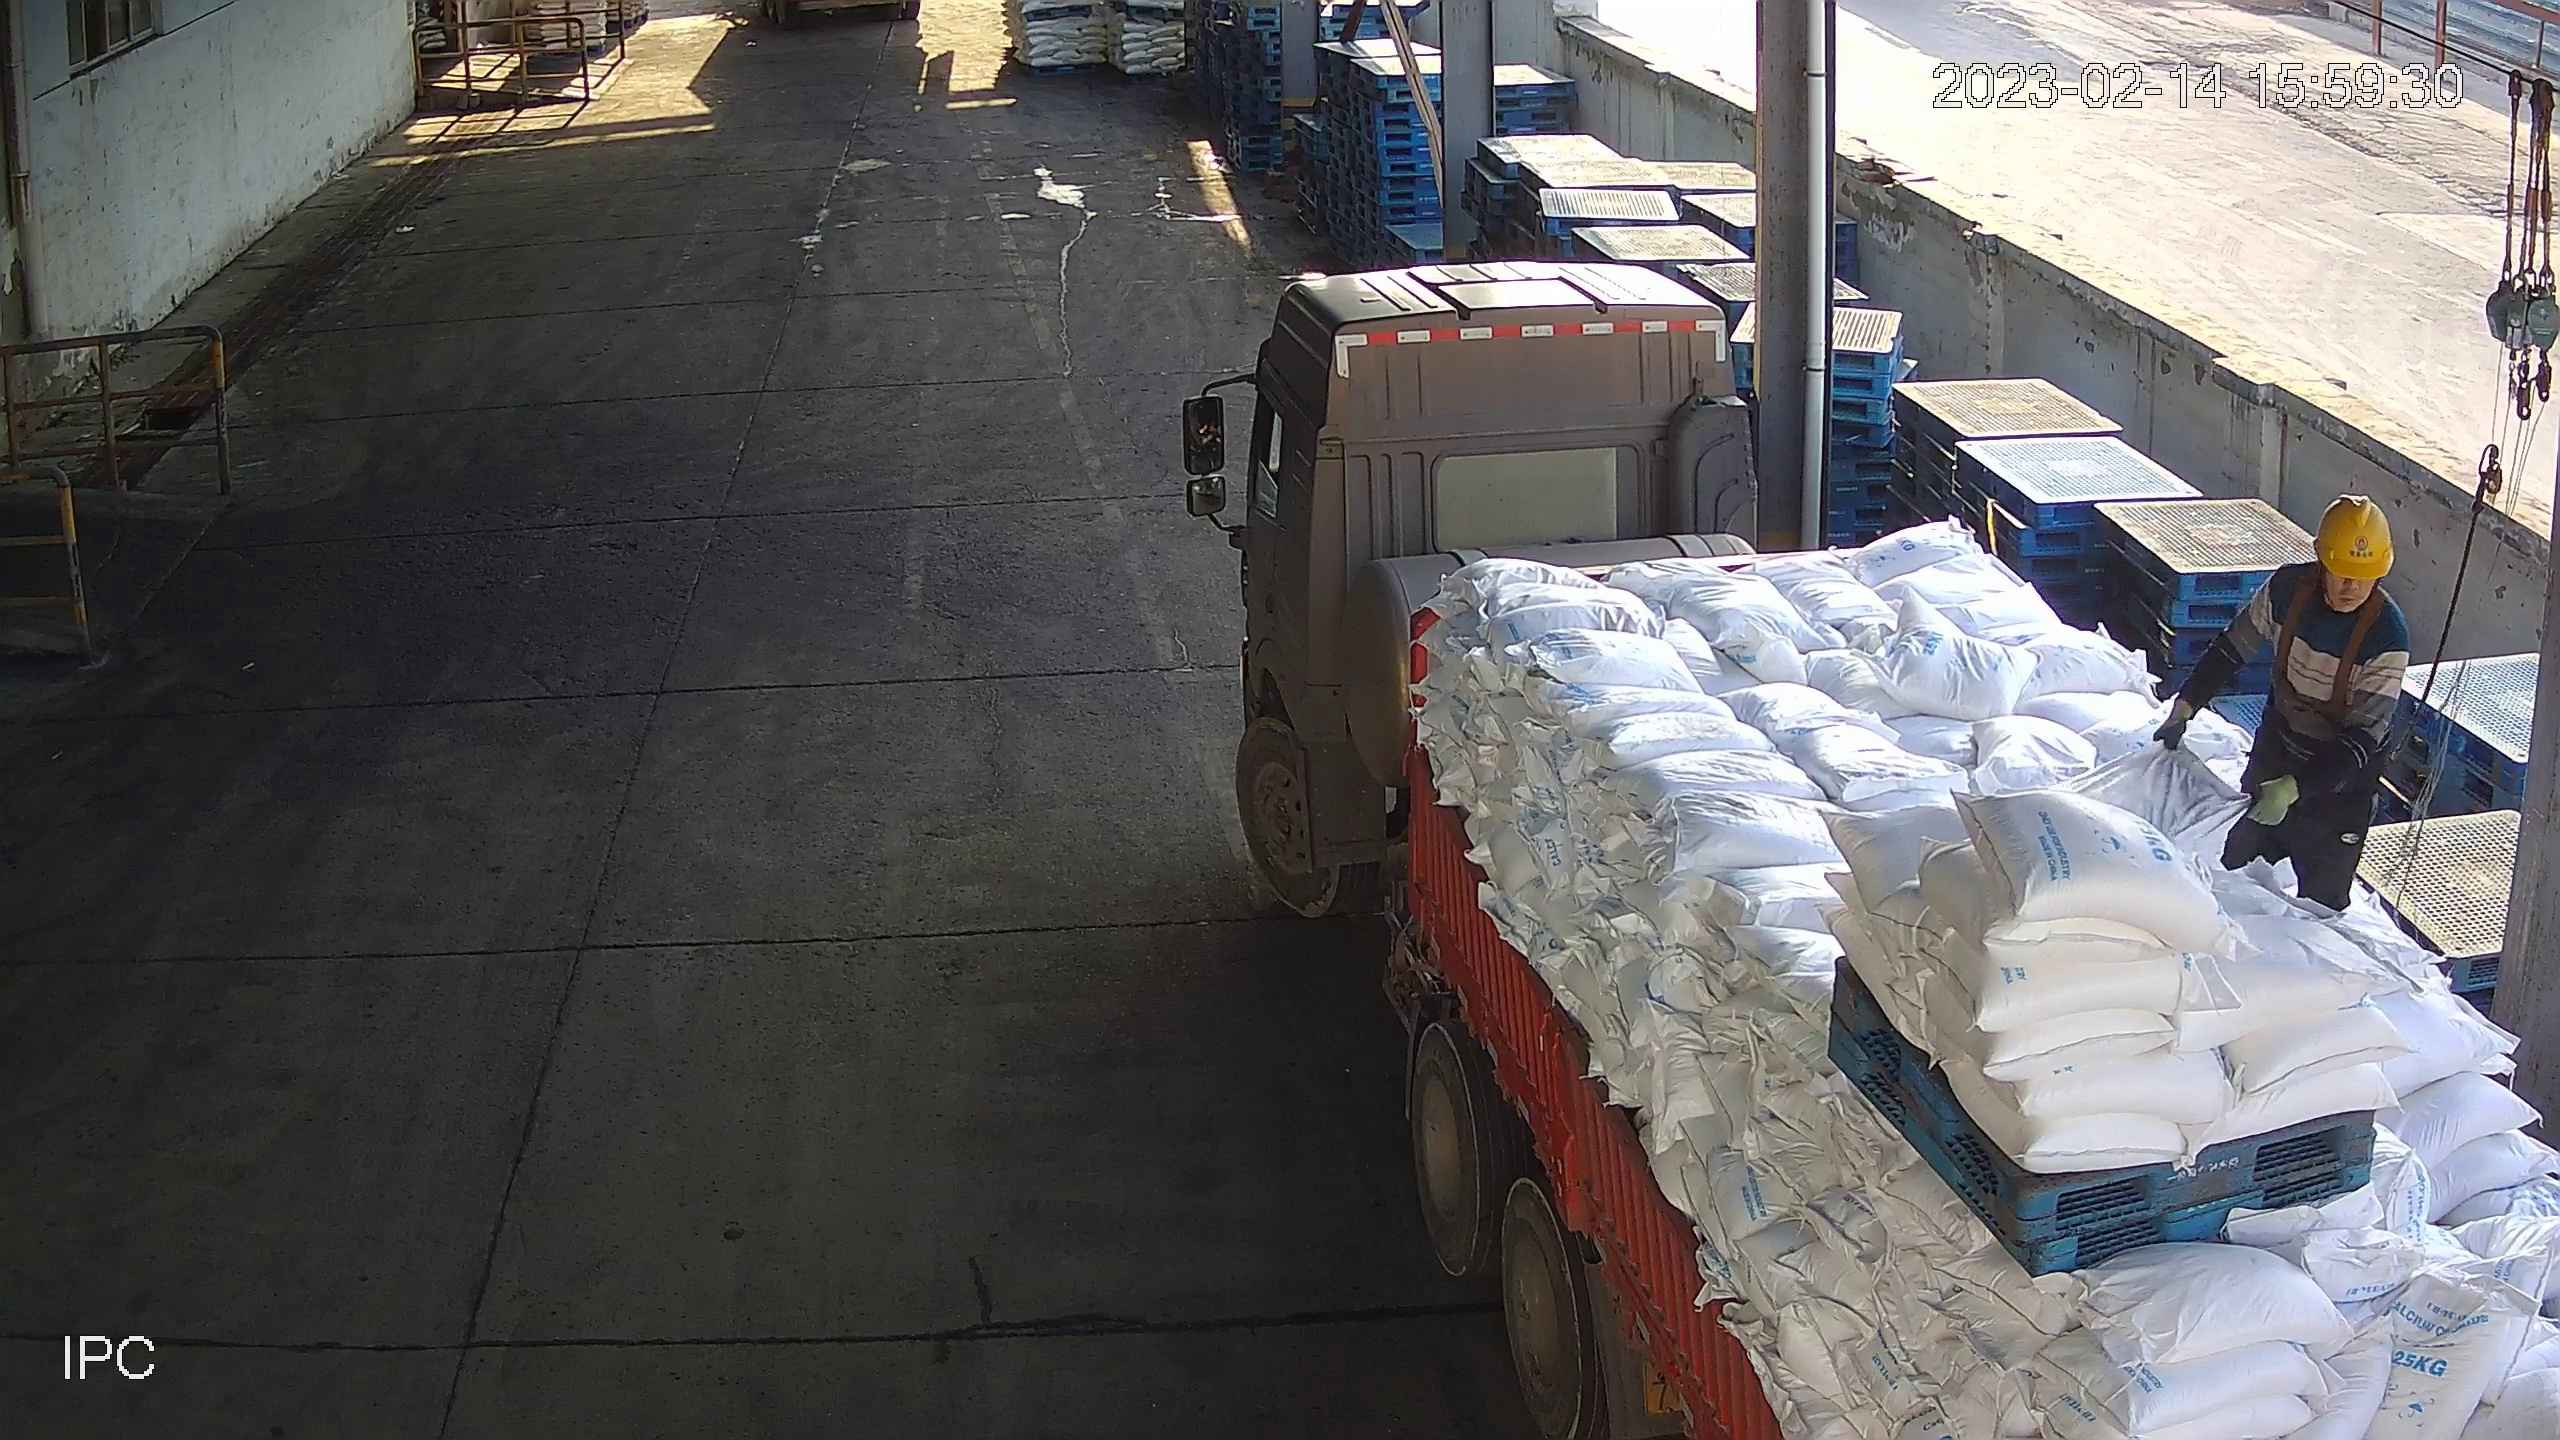belt: (2261, 572, 2383, 747)
head: (2220, 500, 2413, 710)
helmet: (2315, 501, 2395, 581)
people: (2152, 501, 2415, 906)
truck: (1179, 257, 2560, 1440)
